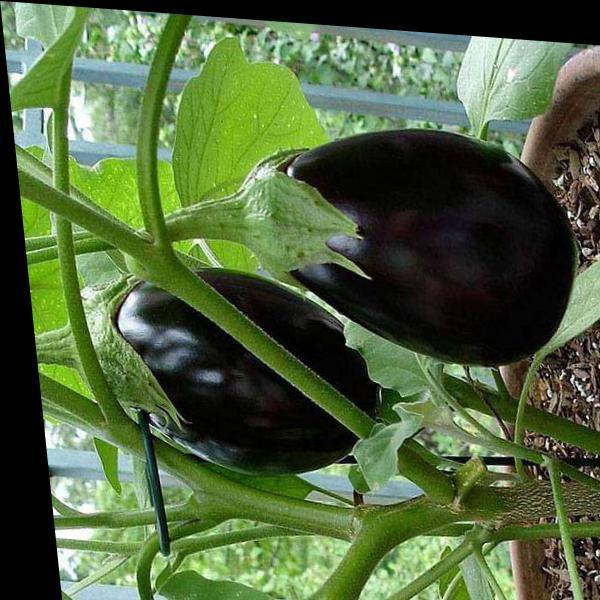eggplant: (138, 93, 596, 378), (19, 235, 402, 510)
